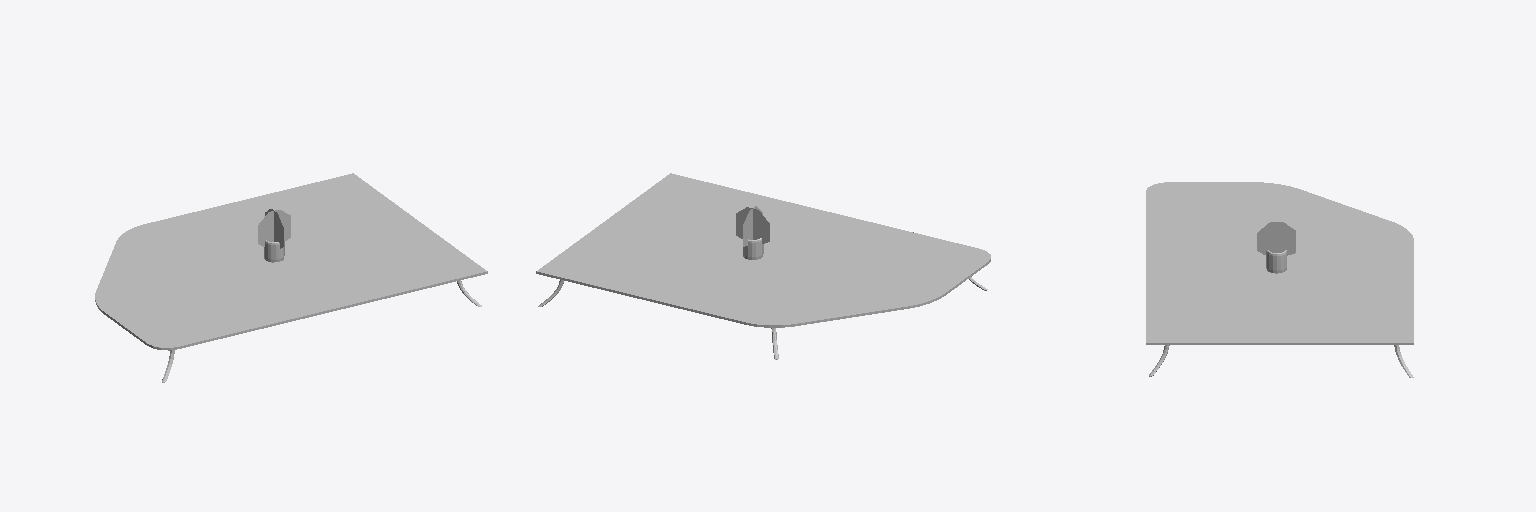
Rendered from table.obj.
3 renders of one model, left to right at view 1: azimuth 30°, elevation 25°; view 2: azimuth 150°, elevation 25°; view 3: azimuth 270°, elevation 25°, orthographic.
Parts seen in each view (by area): view 1: Meja_Cube.162; view 2: Meja_Cube.162; view 3: Meja_Cube.162.
Boxes of the visible parts, <box> form: Meja_Cube.162: <box>95,173,487,382</box>; Meja_Cube.162: <box>536,173,990,359</box>; Meja_Cube.162: <box>1146,182,1413,377</box>.
Size of the model in its own units: 1.42 by 0.3482 by 1.